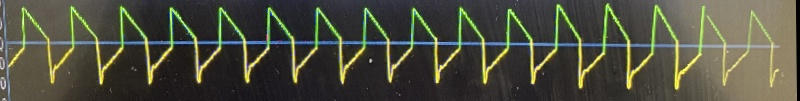peepi: (0, 0, 788, 92)
